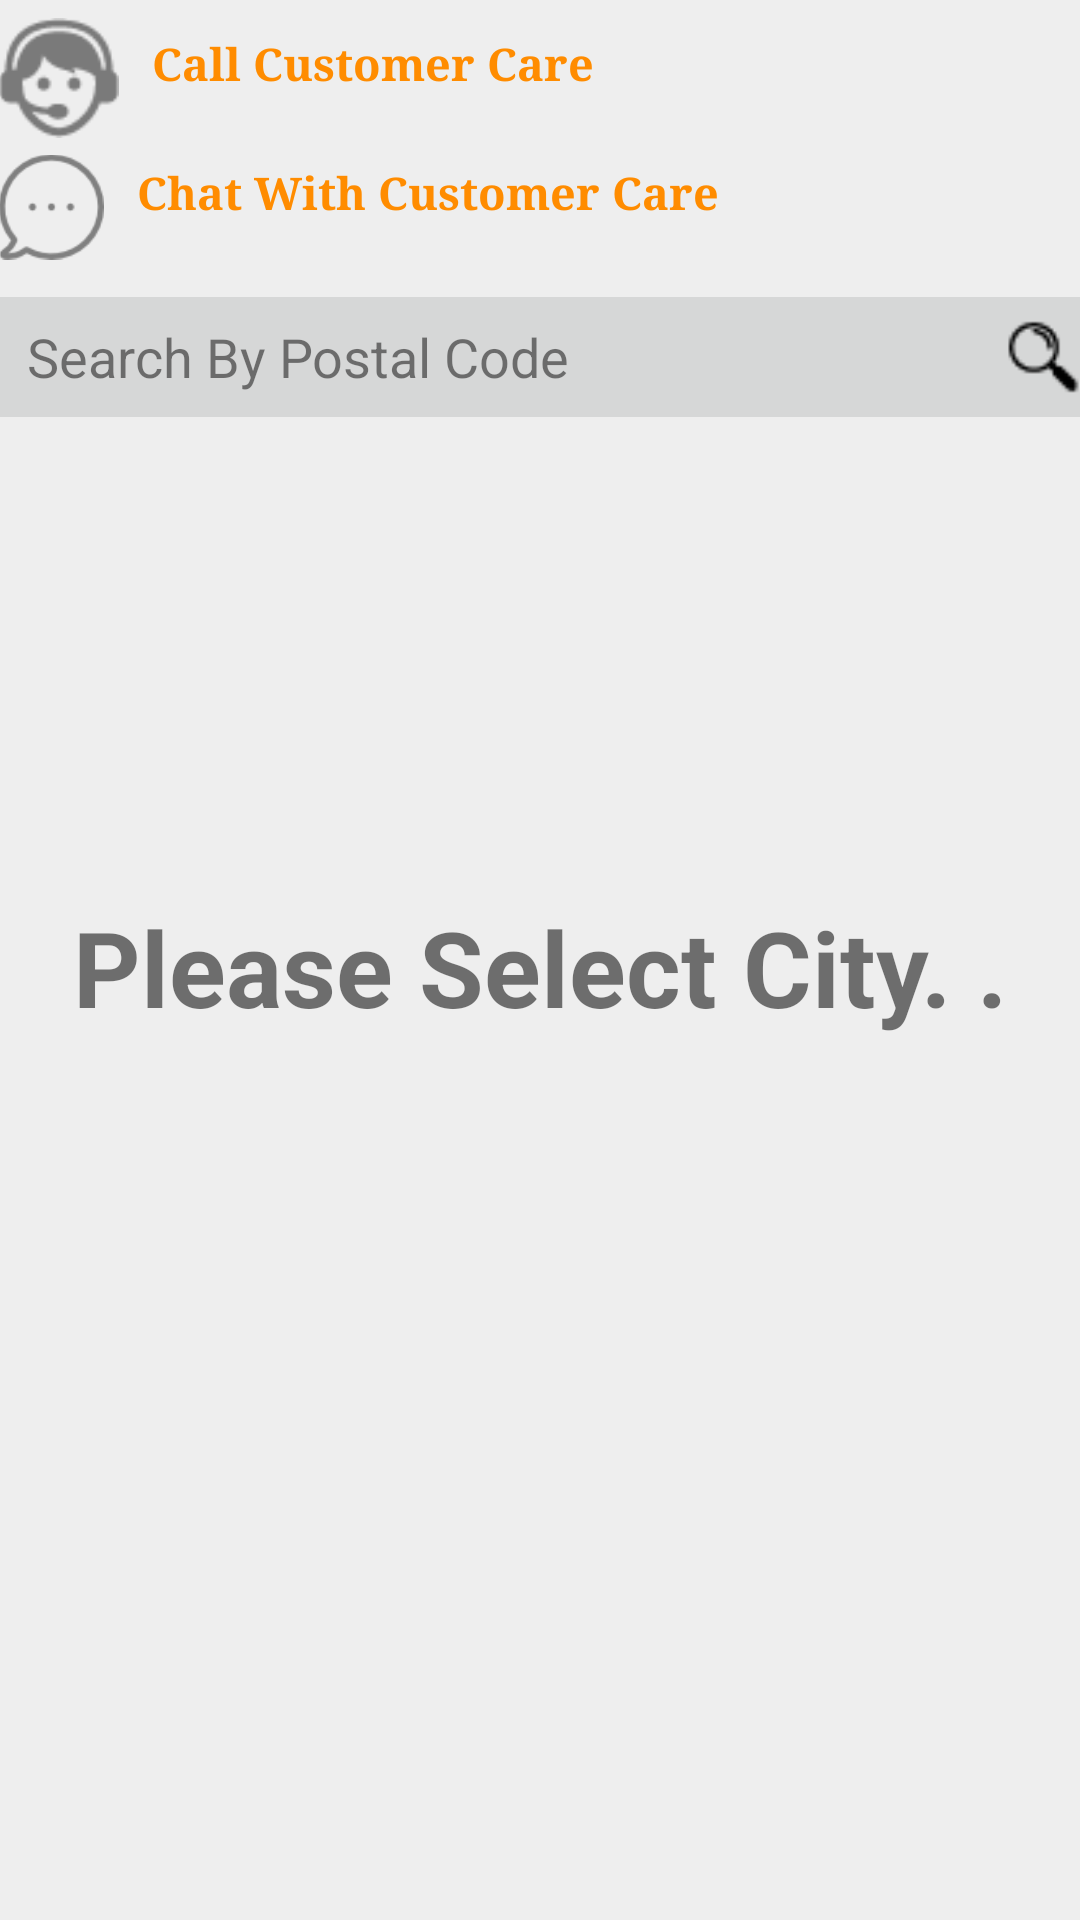

Screen size 1080w x 1920h. Icon name, then its center in pixels as [x,y]:
customer service: [59,78]
search area: [1043,357]
